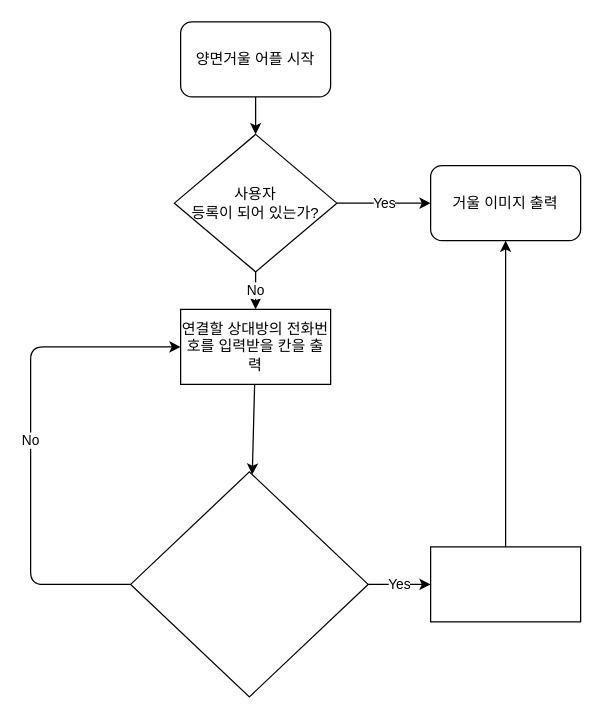
The diagram is 603 pixels wide and 719 high, and some of its shapes have lost their labels. The centre of each missing label's shape, as x and y in pixels:
입력받은 전화번호가 다른사람과 연결되어 있는 상태인가?: point (248, 584)
현재 자신의 전화번호와 입력받은 전화번호를 연결한다.: point (505, 584)
